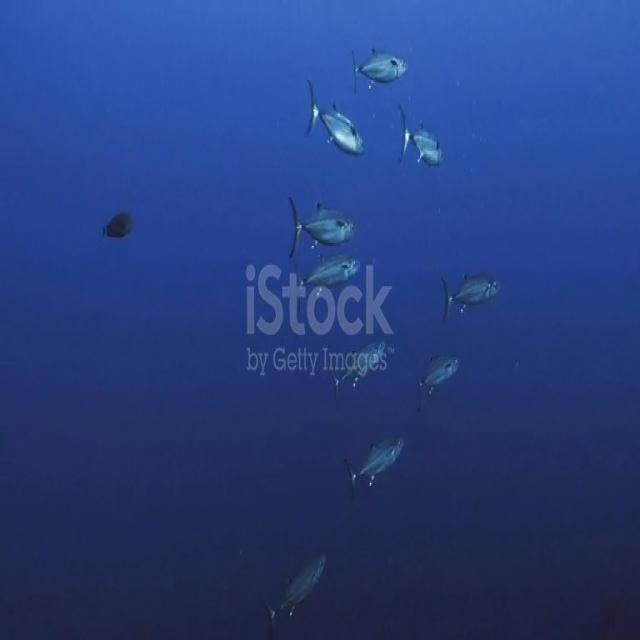fish: (261, 535, 331, 636), (306, 77, 366, 161), (287, 190, 359, 254), (343, 431, 406, 498), (350, 38, 410, 98), (328, 335, 393, 388), (398, 106, 446, 175), (440, 271, 504, 320), (414, 341, 464, 399), (298, 259, 362, 294), (102, 210, 135, 245)
